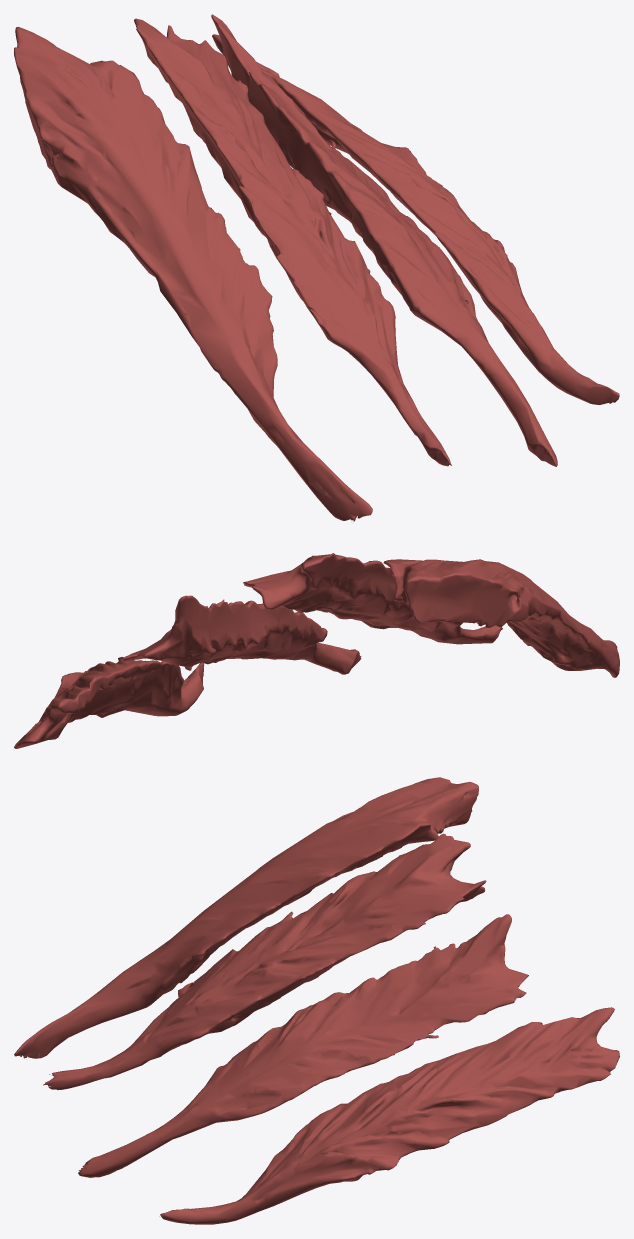
The model's file is FMA74141.glb.
The picture shows the model from 3 angles, top to bottom: view 1: azimuth 30°, elevation 25°; view 2: azimuth 150°, elevation 25°; view 3: azimuth 270°, elevation 25°; orthographic projection. The views are drawn at different scales.
Visible parts, largest first — view 1: FMA74141; view 2: FMA74141; view 3: FMA74141.
Boxes of the visible parts, <box> form: FMA74141: <box>14,14,619,521</box>; FMA74141: <box>14,553,619,748</box>; FMA74141: <box>14,777,619,1224</box>.
Size of the model in its own units: 0.0498 by 0.036 by 0.0697.
